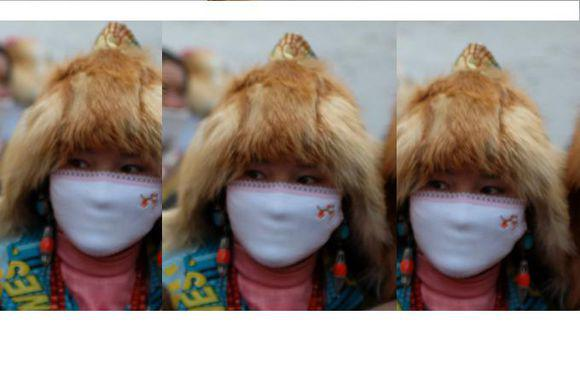OK: (234, 152, 342, 260), (412, 164, 516, 268), (57, 149, 155, 247)
